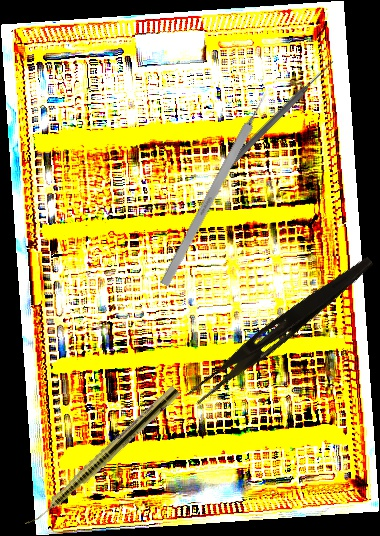Dressing Forceps: (187, 247, 377, 411)
Handpiece: (22, 383, 182, 533)
Hook Surgical: (159, 85, 274, 287)
Pusher: (217, 57, 338, 177)
